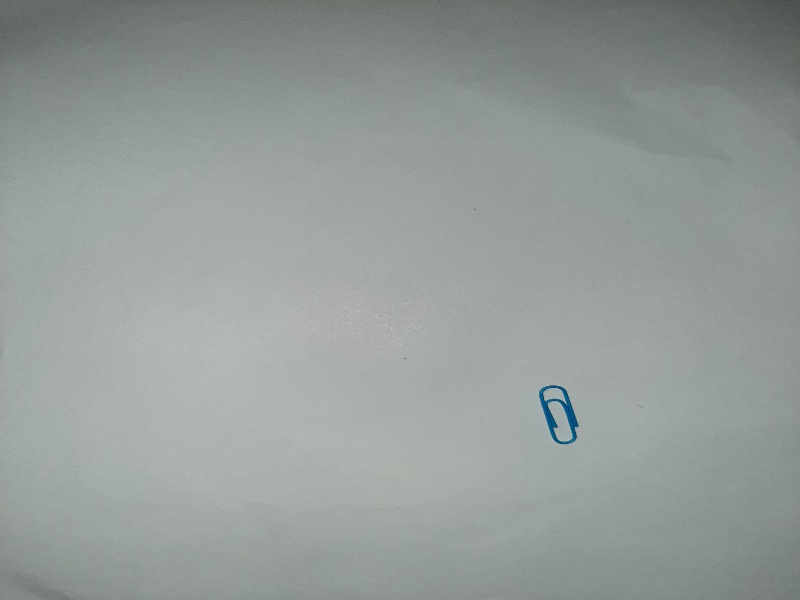Small Jumpclip: (533, 379, 592, 456)
